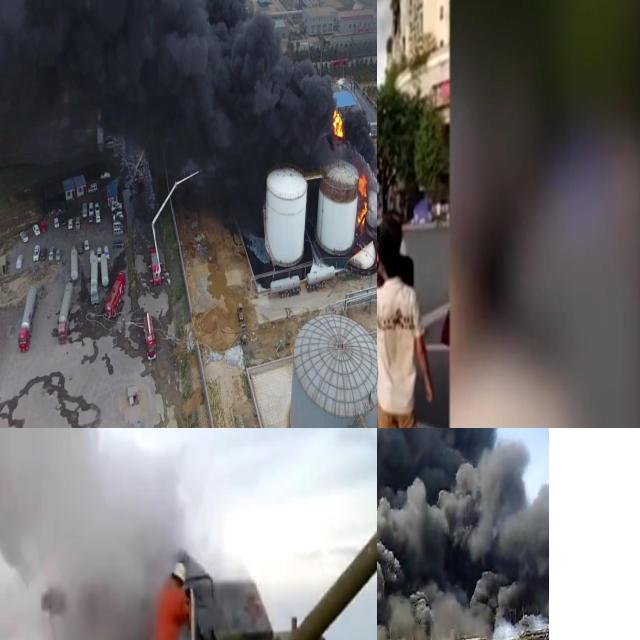fire: (356, 174, 368, 227), (332, 108, 343, 139)
smoke: (0, 0, 373, 223), (0, 428, 188, 640), (377, 428, 547, 640)
